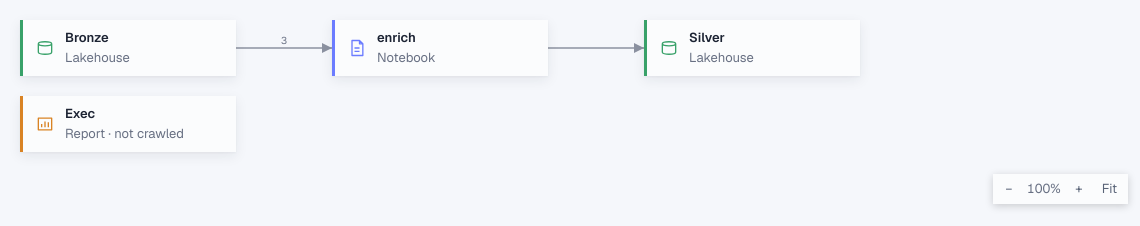
Scenario: LineageCanvas › zooming changes the reported scale
The width and height of the screenshot is (1140, 226).
Expected: the text "100%" is shown, [1025,180,1063,198]
What coordinates should you click on to do the following:
click the button named "Zoom out"
I would click on:
 (1009, 189)
Its box is [997,178,1021,200].
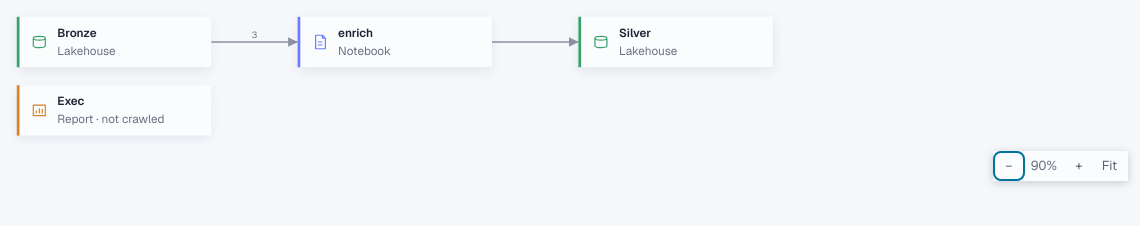
Result: the text "90%" is shown at [1031,157,1057,174]
